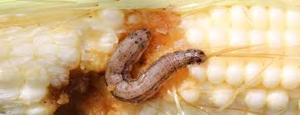fallarmy_worm: (105, 27, 211, 100)
